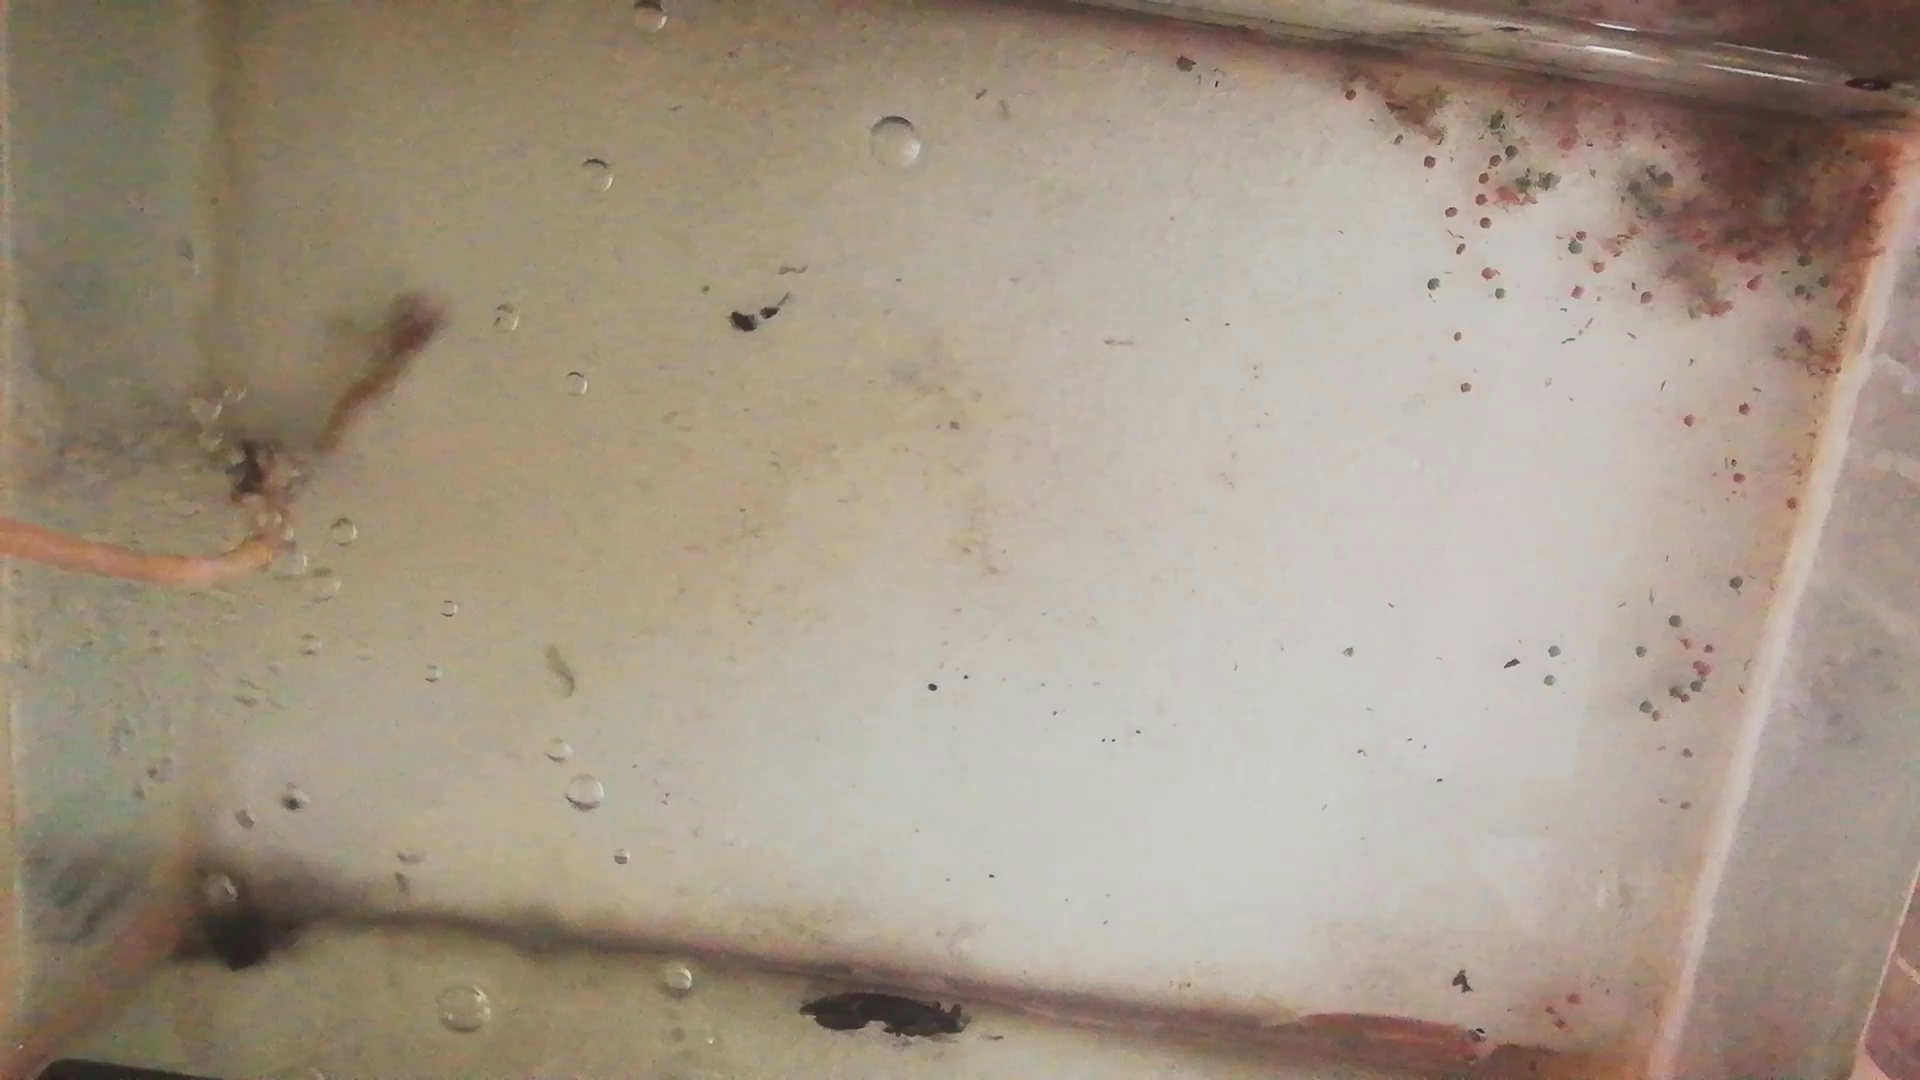fish: (307, 299, 451, 448), (1275, 1010, 1497, 1067)
